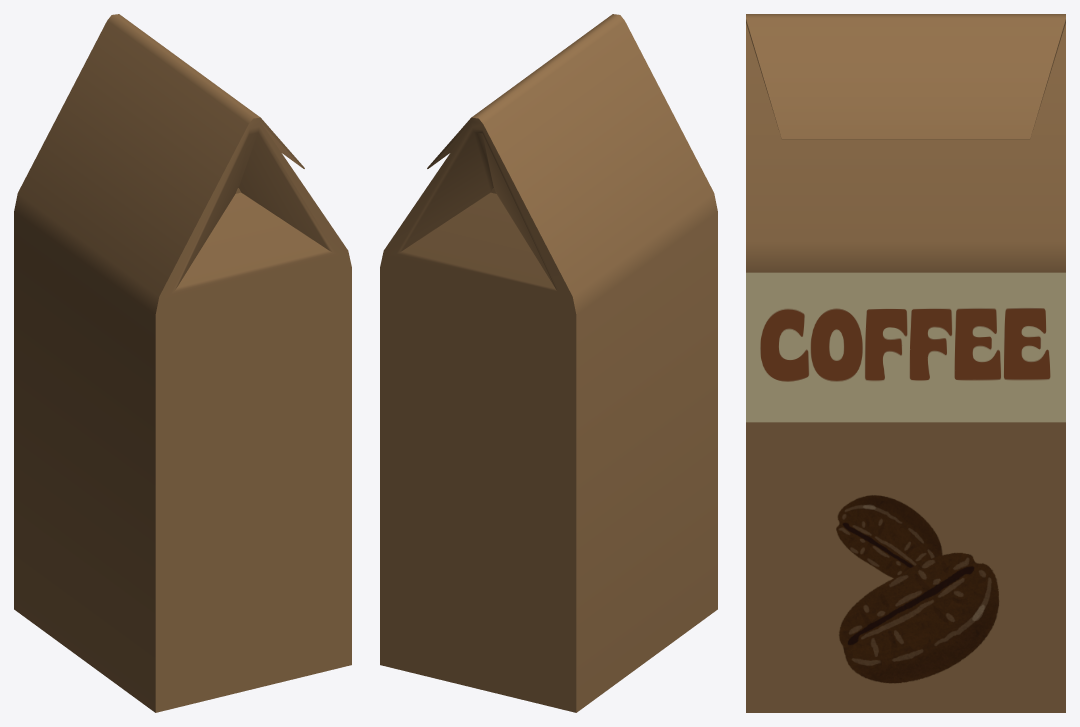
File: coffee_powder.fbx
3 renders of one model, left to right at view 1: azimuth 30°, elevation 25°; view 2: azimuth 150°, elevation 25°; view 3: azimuth 270°, elevation 25°, orthographic. The views are drawn at different scales.
Visible parts, largest first — view 1: Coffee; view 2: Coffee; view 3: Coffee.
Part boxes in pixels (x1,y1,x2,y2): Coffee: (14, 14, 351, 712); Coffee: (380, 14, 717, 712); Coffee: (746, 14, 1065, 712).
Size of the model in its own units: 200 by 555 by 250.
Materials: 3 (2 with a texture image).
